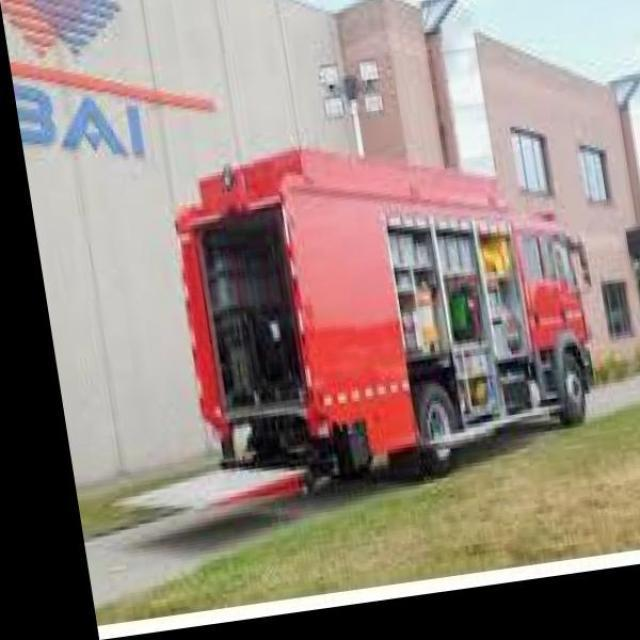emergency: (173, 146, 595, 494)
